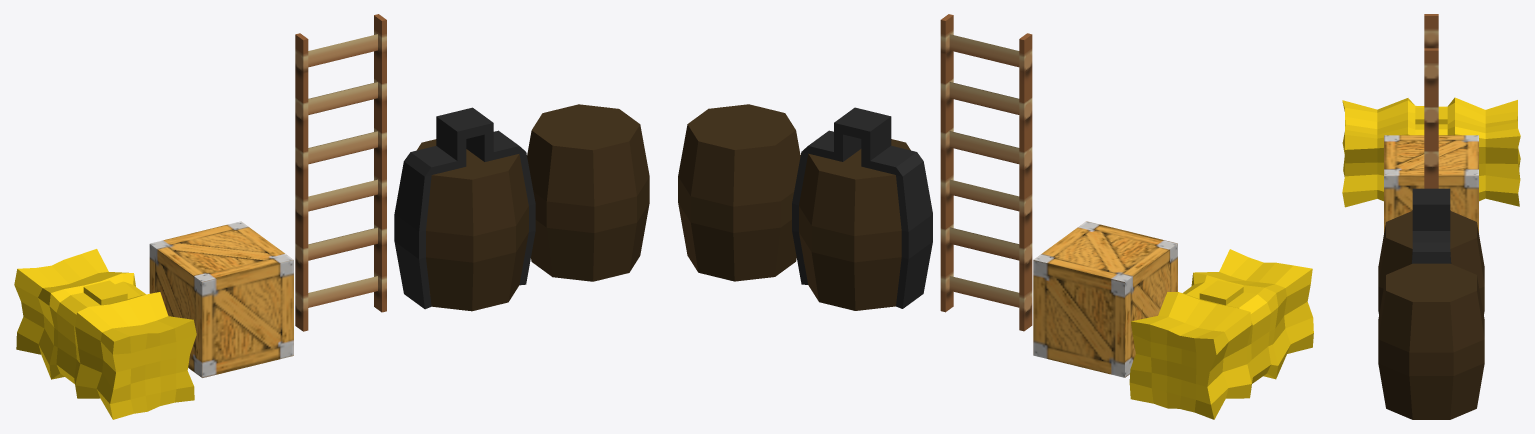
File: PropsBasic.fbx
3 renders of one model, left to right at view 1: azimuth 30°, elevation 25°; view 2: azimuth 150°, elevation 25°; view 3: azimuth 270°, elevation 25°, orthographic. The views are drawn at different scales.
Parts seen in each view (by area): view 1: BarrelWithRing, Haybale, Barrel, Box, Ladder; view 2: BarrelWithRing, Haybale, Barrel, Box, Ladder; view 3: Barrel, Haybale, BarrelWithRing, Box, Ladder.
Part boxes in pixels (x1,y1,x2,y2): BarrelWithRing: [394, 107, 535, 311]; Haybale: [14, 249, 196, 419]; Barrel: [527, 104, 649, 281]; Box: [149, 221, 293, 377]; Ladder: [295, 14, 386, 331]; BarrelWithRing: [792, 107, 932, 310]; Haybale: [1129, 249, 1313, 419]; Barrel: [678, 104, 800, 281]; Box: [1033, 221, 1177, 377]; Ladder: [940, 14, 1032, 331]; Barrel: [1378, 263, 1484, 419]; Haybale: [1342, 97, 1520, 207]; BarrelWithRing: [1378, 188, 1484, 314]; Box: [1384, 135, 1478, 232]; Ladder: [1424, 14, 1438, 188].
Size of the model in its own units: 413 by 202 by 124.
